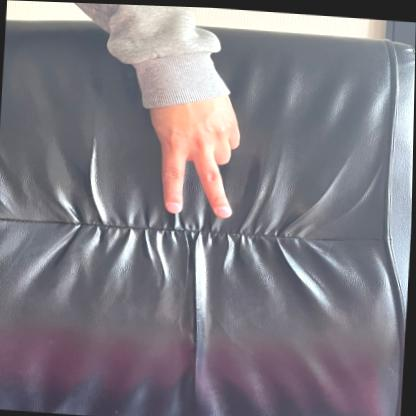N: (131, 56, 253, 222)
